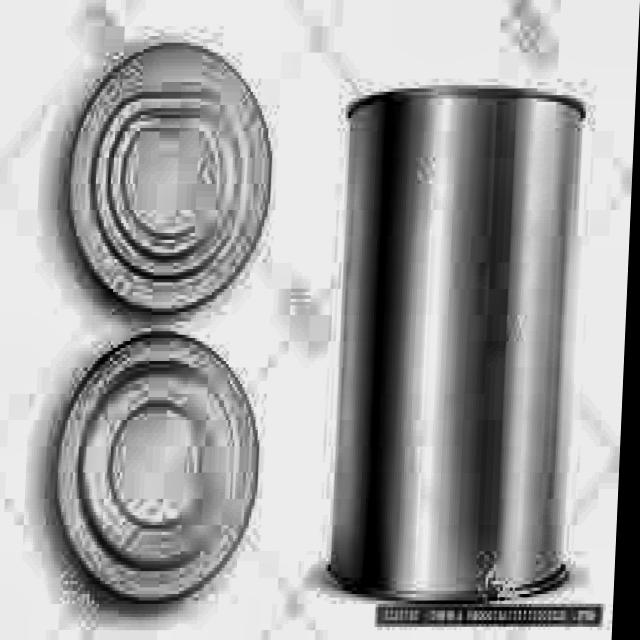can: (314, 81, 598, 614), (42, 325, 282, 619), (58, 30, 287, 320)
